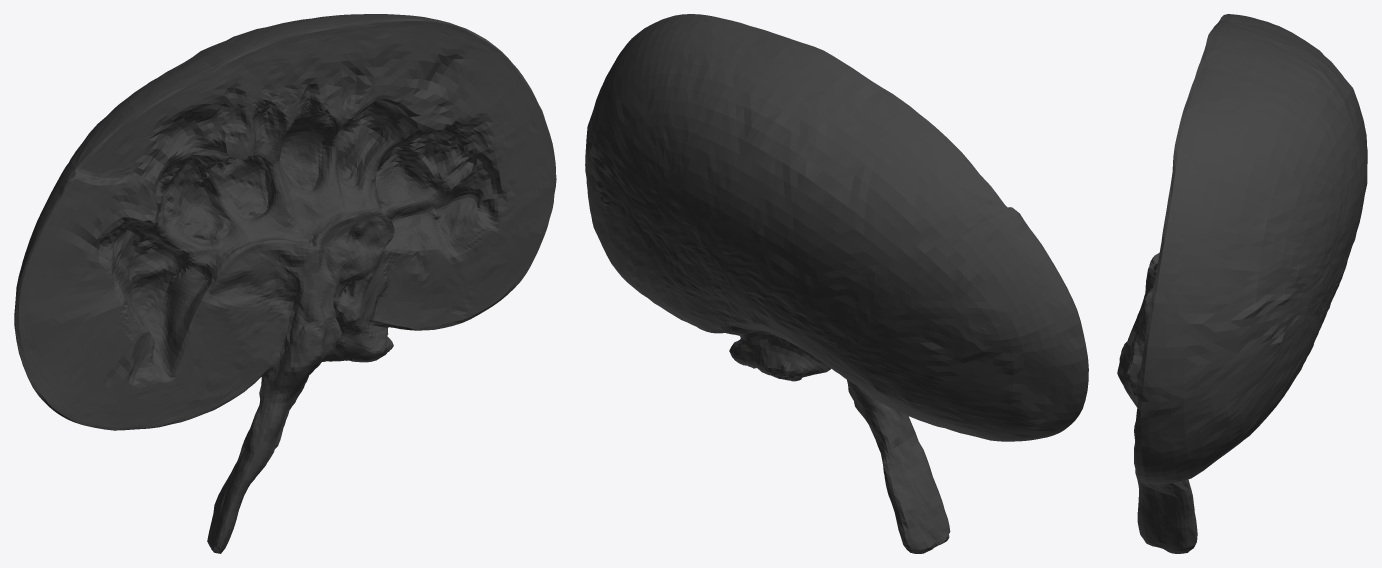
The model's file is Sagittally_Sectioned_Canine_Kidney_sdiv1_Group2.glb.
3 views of the same model, side by side, from view 1: azimuth 30°, elevation 25°; view 2: azimuth 150°, elevation 25°; view 3: azimuth 270°, elevation 25° (orthographic). The views are drawn at different scales.
Visible parts, largest first — view 1: Sagittally_Sectioned_Canine_Kidney_sdiv1_Group2; view 2: Sagittally_Sectioned_Canine_Kidney_sdiv1_Group2; view 3: Sagittally_Sectioned_Canine_Kidney_sdiv1_Group2.
Part boxes in pixels (bbox=[...]): Sagittally_Sectioned_Canine_Kidney_sdiv1_Group2: bbox=[14, 14, 556, 553]; Sagittally_Sectioned_Canine_Kidney_sdiv1_Group2: bbox=[585, 14, 1088, 553]; Sagittally_Sectioned_Canine_Kidney_sdiv1_Group2: bbox=[1117, 14, 1367, 553].
Bounding box in the file's own units: 63.99 × 57.69 × 23.14.
1 material, 1 textured.
